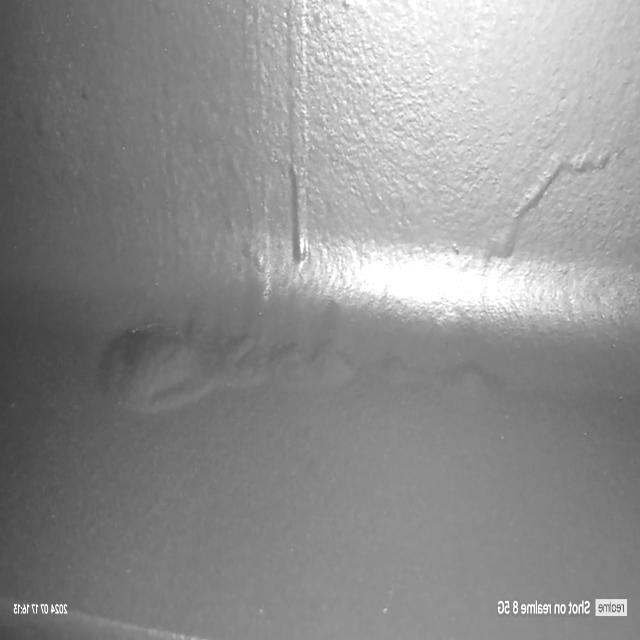paint drips: (213, 0, 327, 304), (474, 120, 636, 285)
